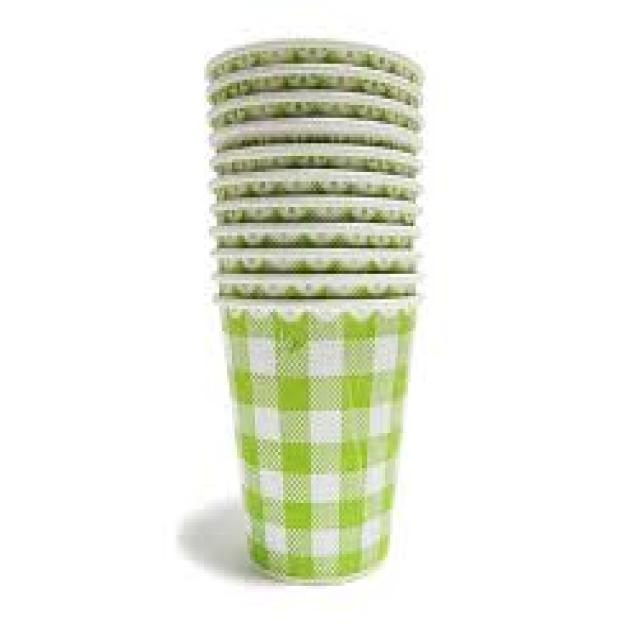PaperCardboard: (208, 33, 419, 578)
